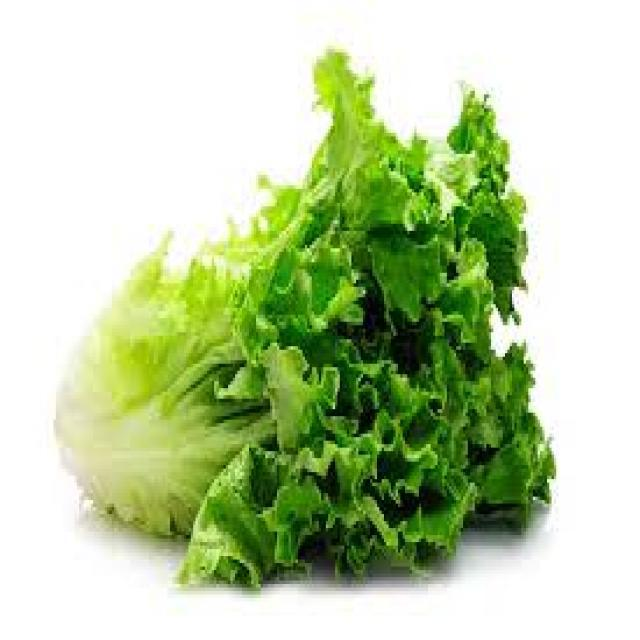Lettuce: (57, 60, 555, 590)
